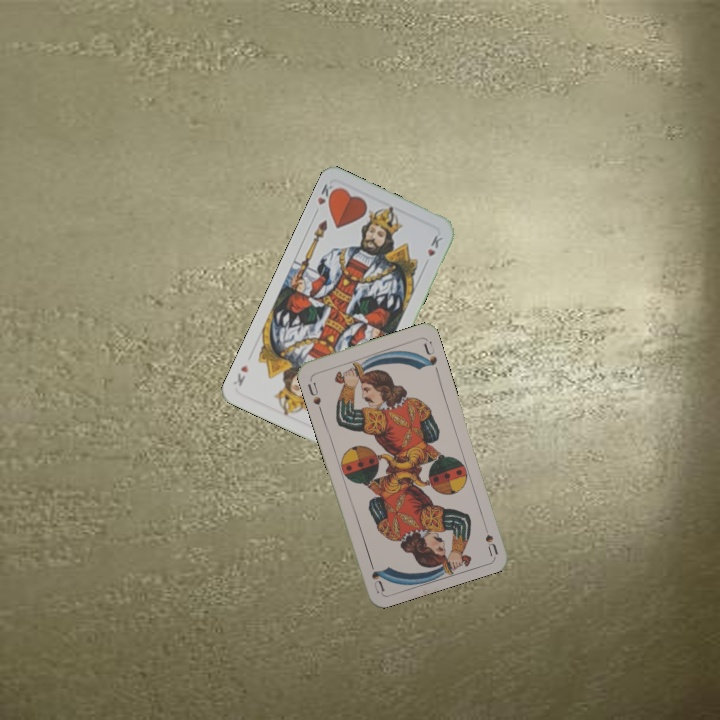HK: (313, 179, 339, 209)
SU: (478, 517, 500, 557), (303, 374, 324, 408)
